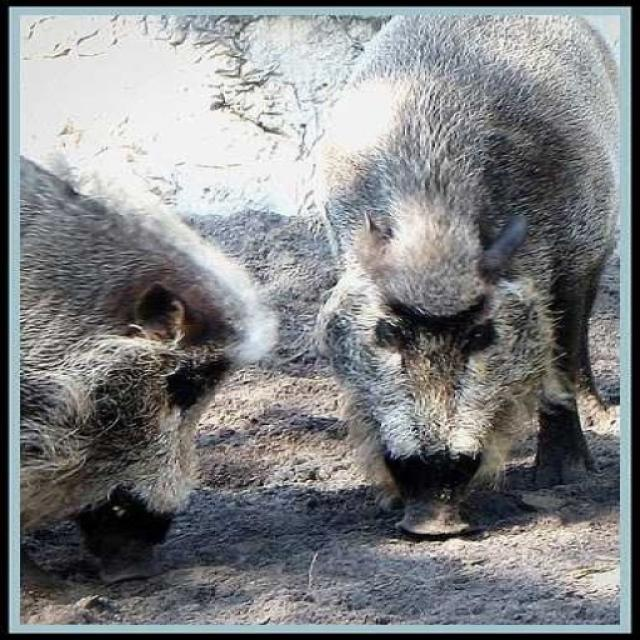pig: (280, 0, 640, 547), (0, 92, 265, 562)
